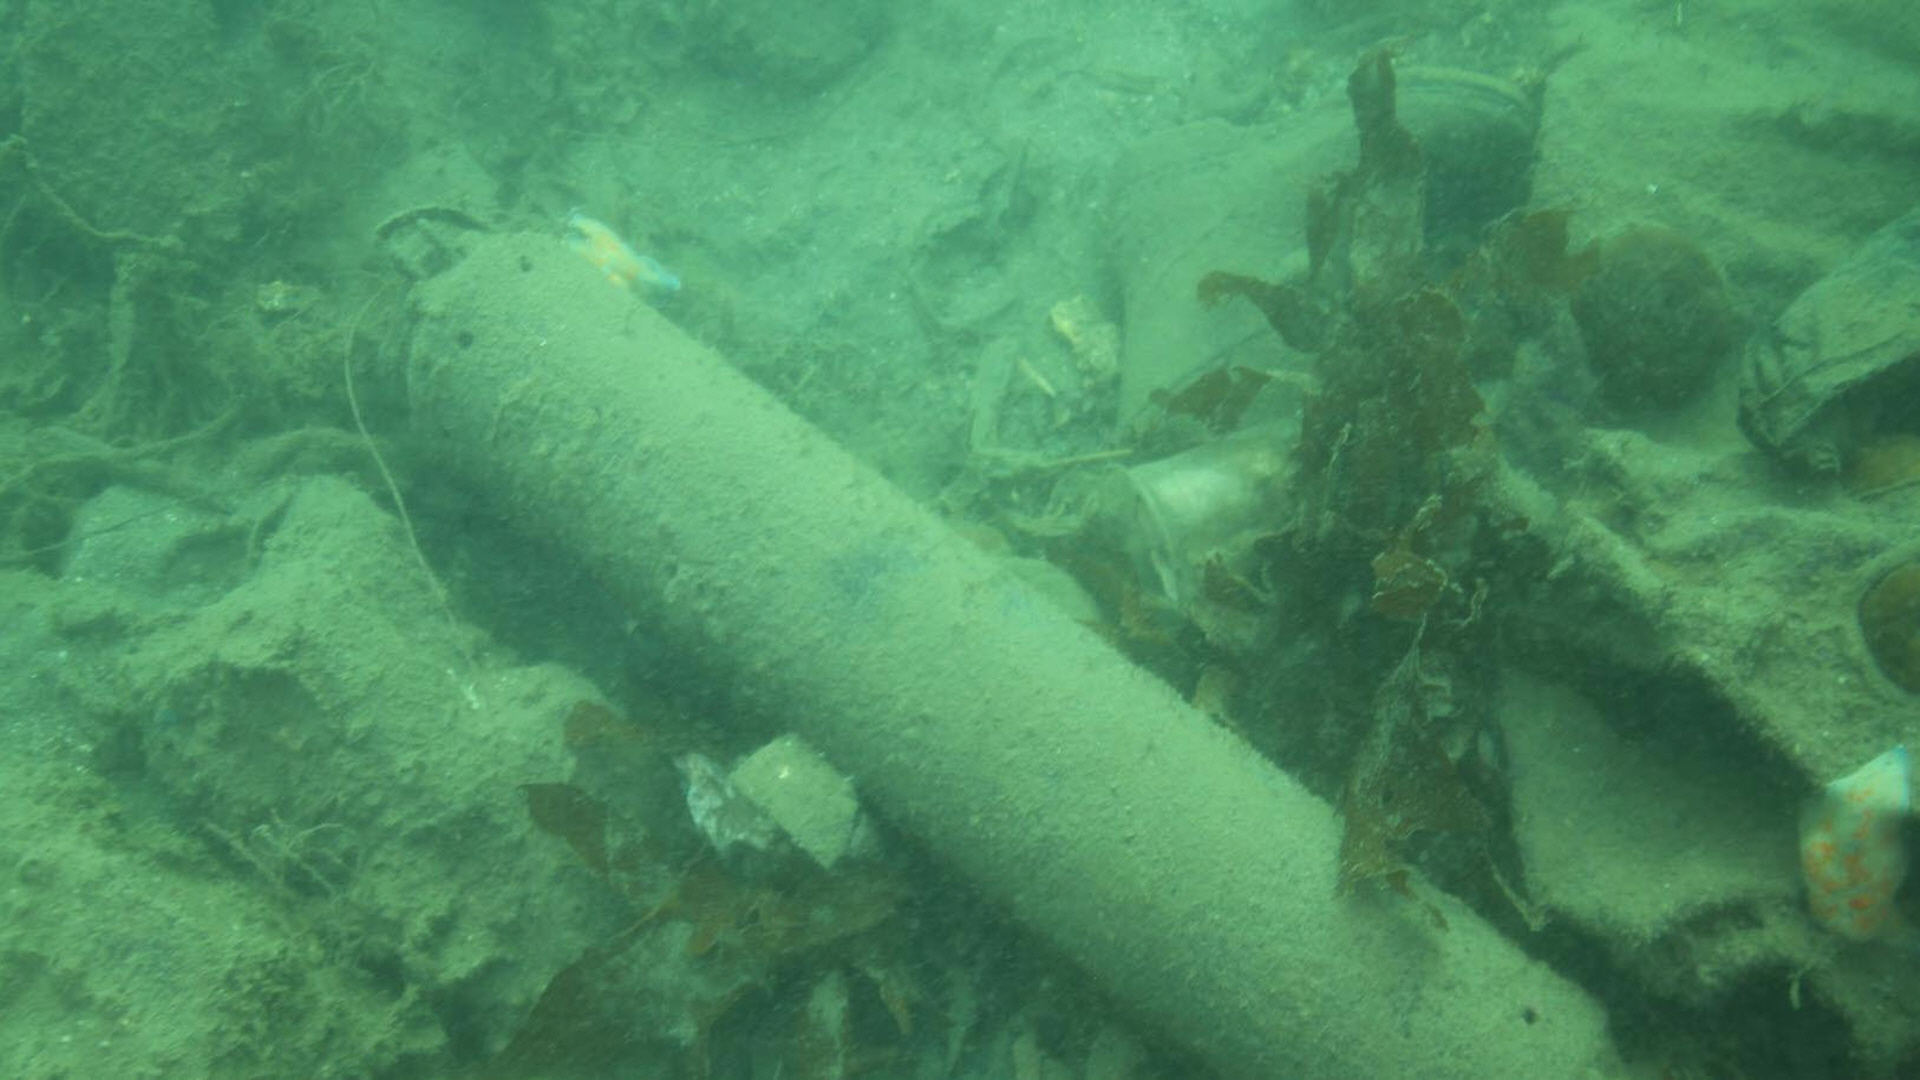eel fish trap: (349, 199, 1617, 1080)
